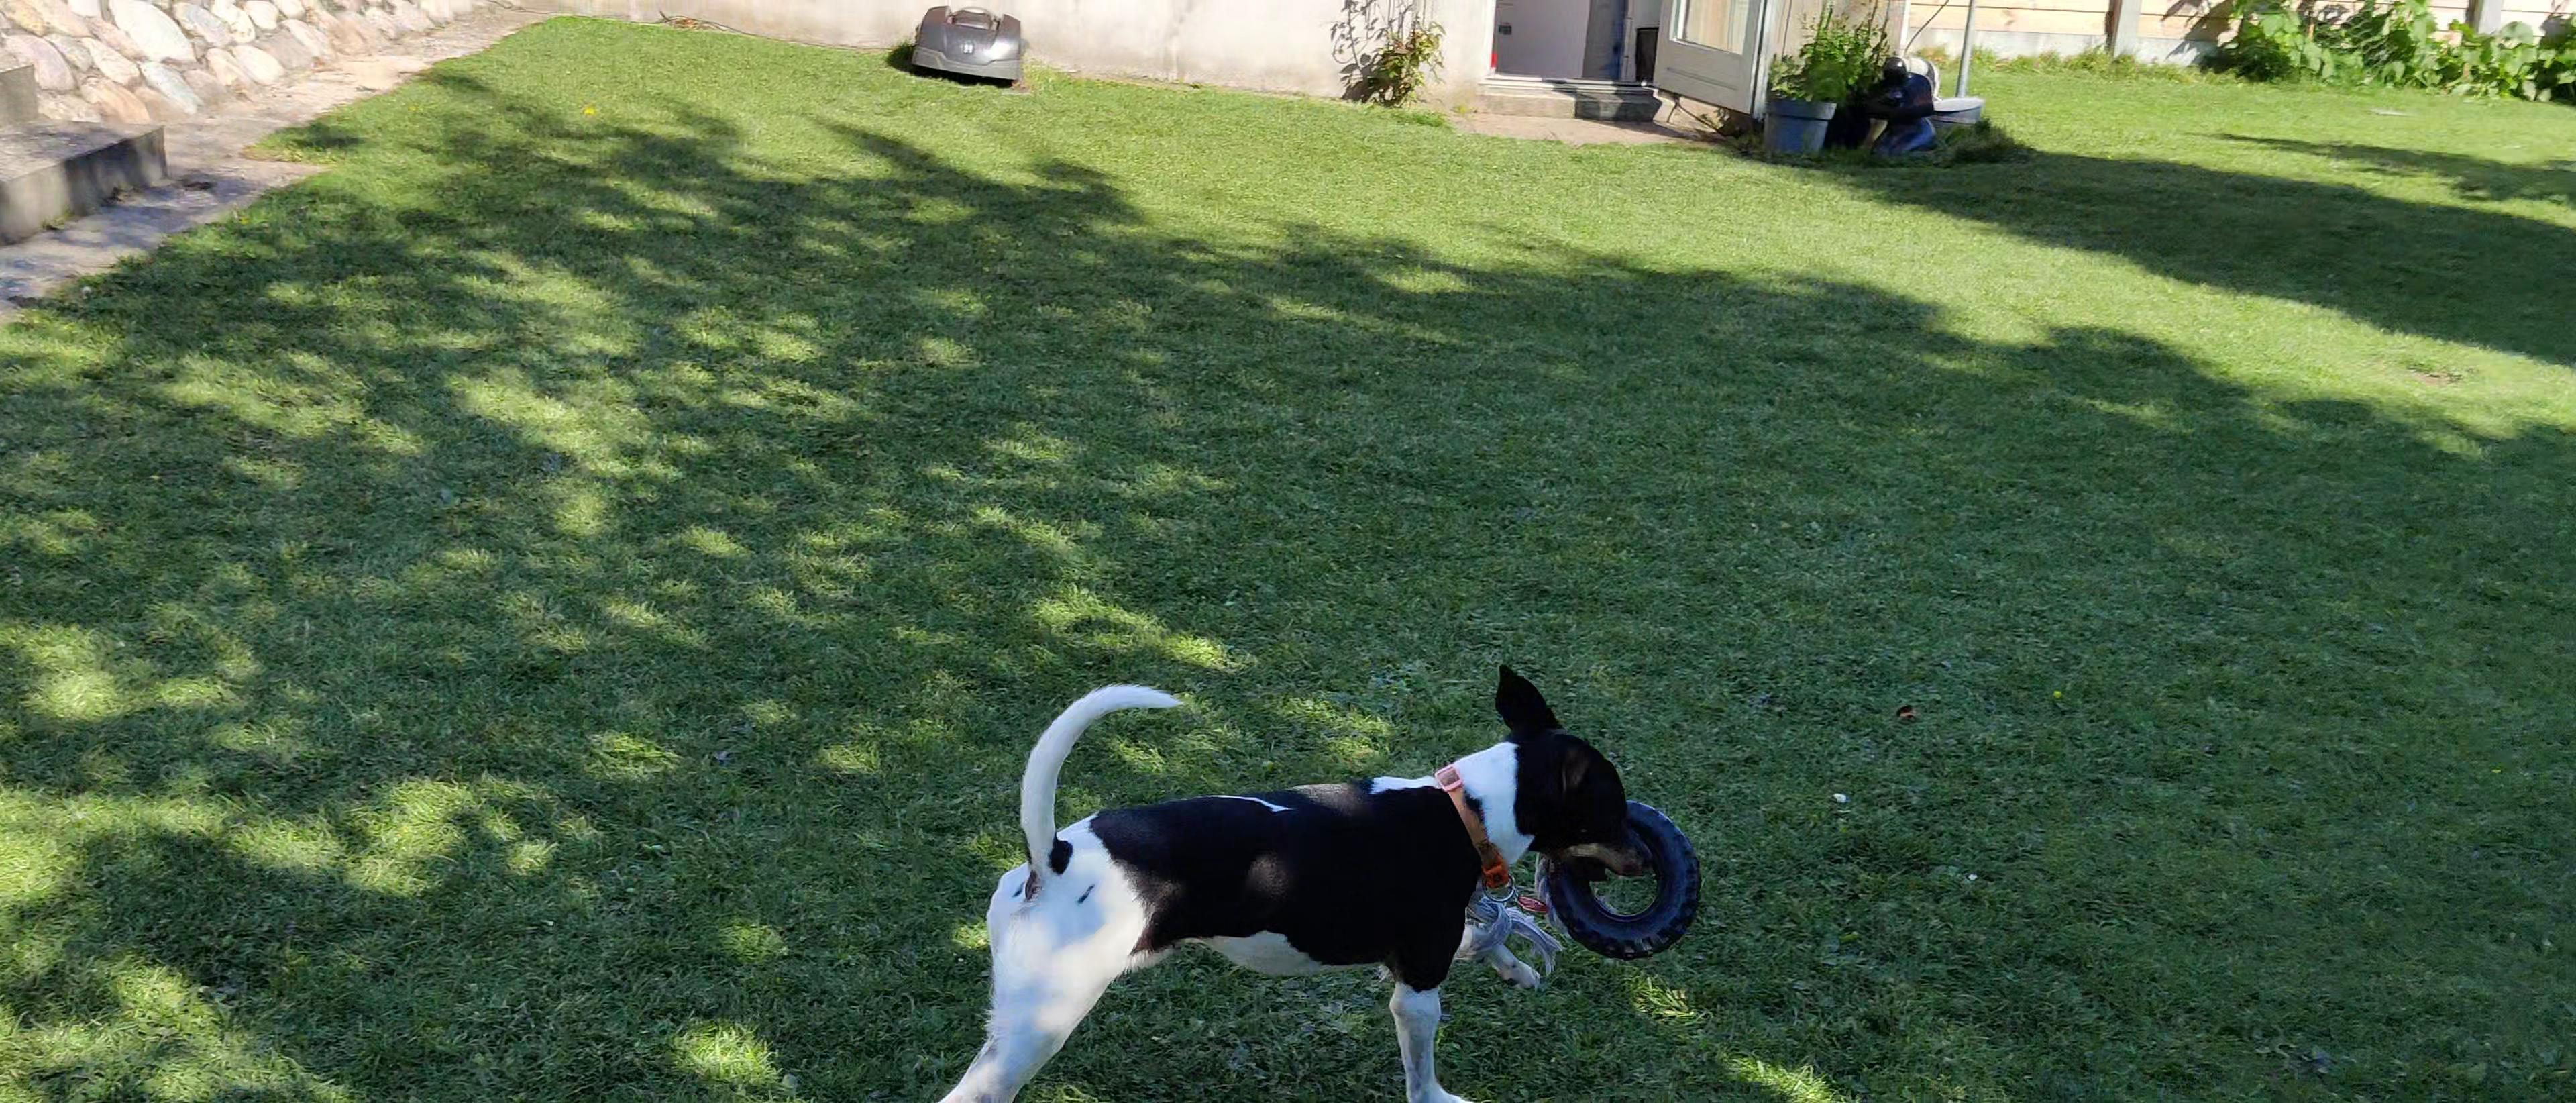Dog: (894, 653, 1666, 1103)
